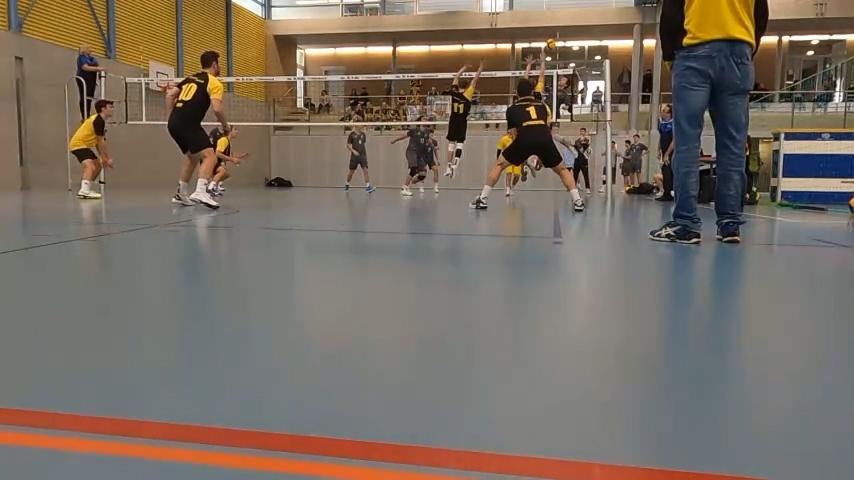attacco: (543, 63, 575, 125)
muro: (438, 57, 484, 183), (522, 49, 547, 97)
